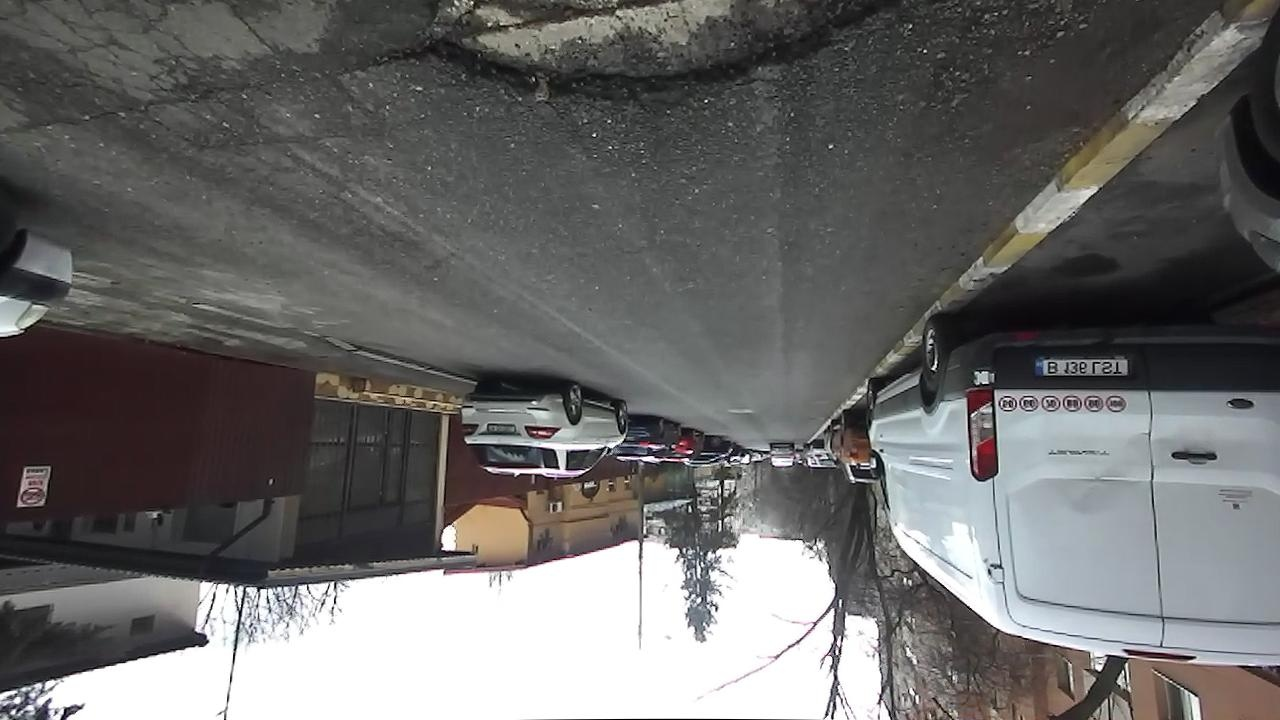pothole: (381, 0, 922, 120)
